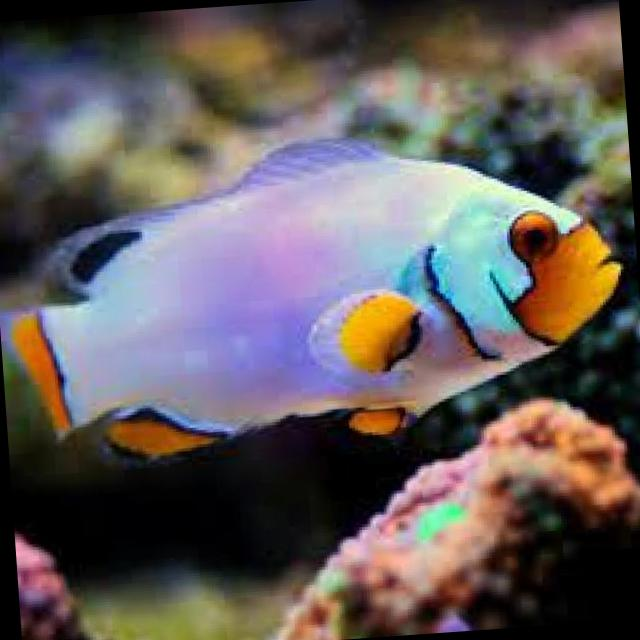ClownFish: (12, 115, 635, 468)
